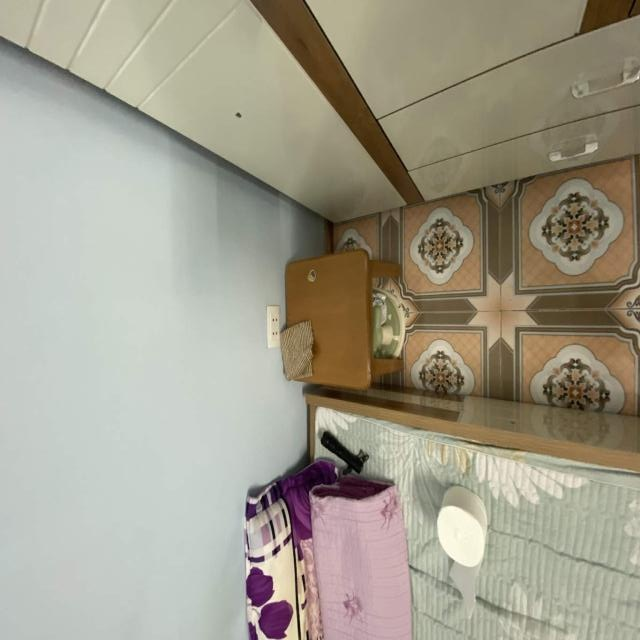outlet: (267, 306, 281, 349)
